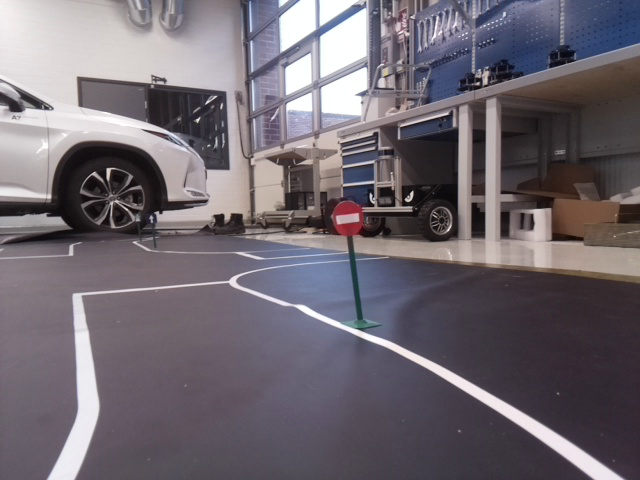NoEntry: (333, 202, 364, 238), (327, 192, 330, 198)
OneWay: (144, 212, 156, 224)
